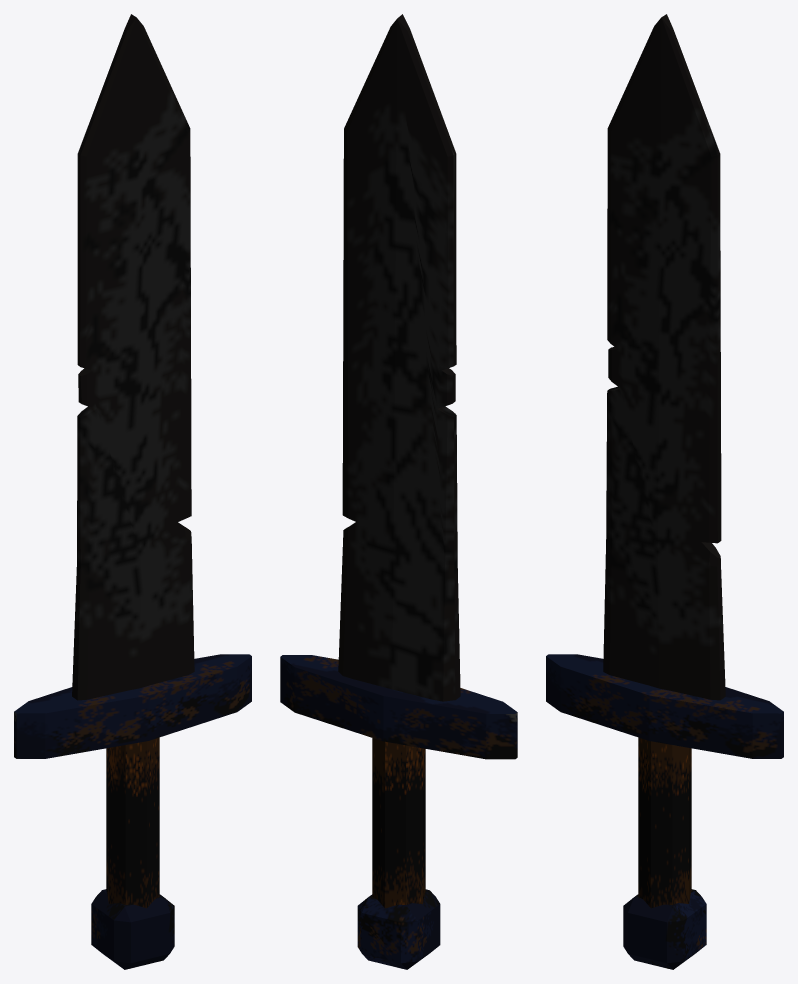
File: sword_for_skelet.fbx
The picture shows the model from 3 angles, left to right: view 1: azimuth 30°, elevation 25°; view 2: azimuth 150°, elevation 25°; view 3: azimuth 330°, elevation 25°; orthographic projection.
Visible parts, largest first — view 1: Cube, Cube.004, Cylinder, Cube.005; view 2: Cube, Cube.004, Cylinder, Cube.005; view 3: Cube, Cube.004, Cylinder, Cube.005.
Part boxes in pixels (bbox=[...]): Cube: bbox=[72, 14, 194, 700]; Cube.004: bbox=[14, 654, 251, 758]; Cylinder: bbox=[106, 737, 159, 908]; Cube.005: bbox=[91, 889, 174, 969]; Cube: bbox=[338, 14, 460, 701]; Cube.004: bbox=[280, 655, 517, 759]; Cylinder: bbox=[372, 738, 425, 908]; Cube.005: bbox=[357, 889, 440, 969]; Cube: bbox=[603, 14, 725, 700]; Cube.004: bbox=[546, 654, 783, 758]; Cylinder: bbox=[638, 737, 691, 908]; Cube.005: bbox=[623, 889, 706, 969].
Bounding box in the file's own units: 330 × 1262 × 84.82.
Materials: 4 (4 with a texture image).
